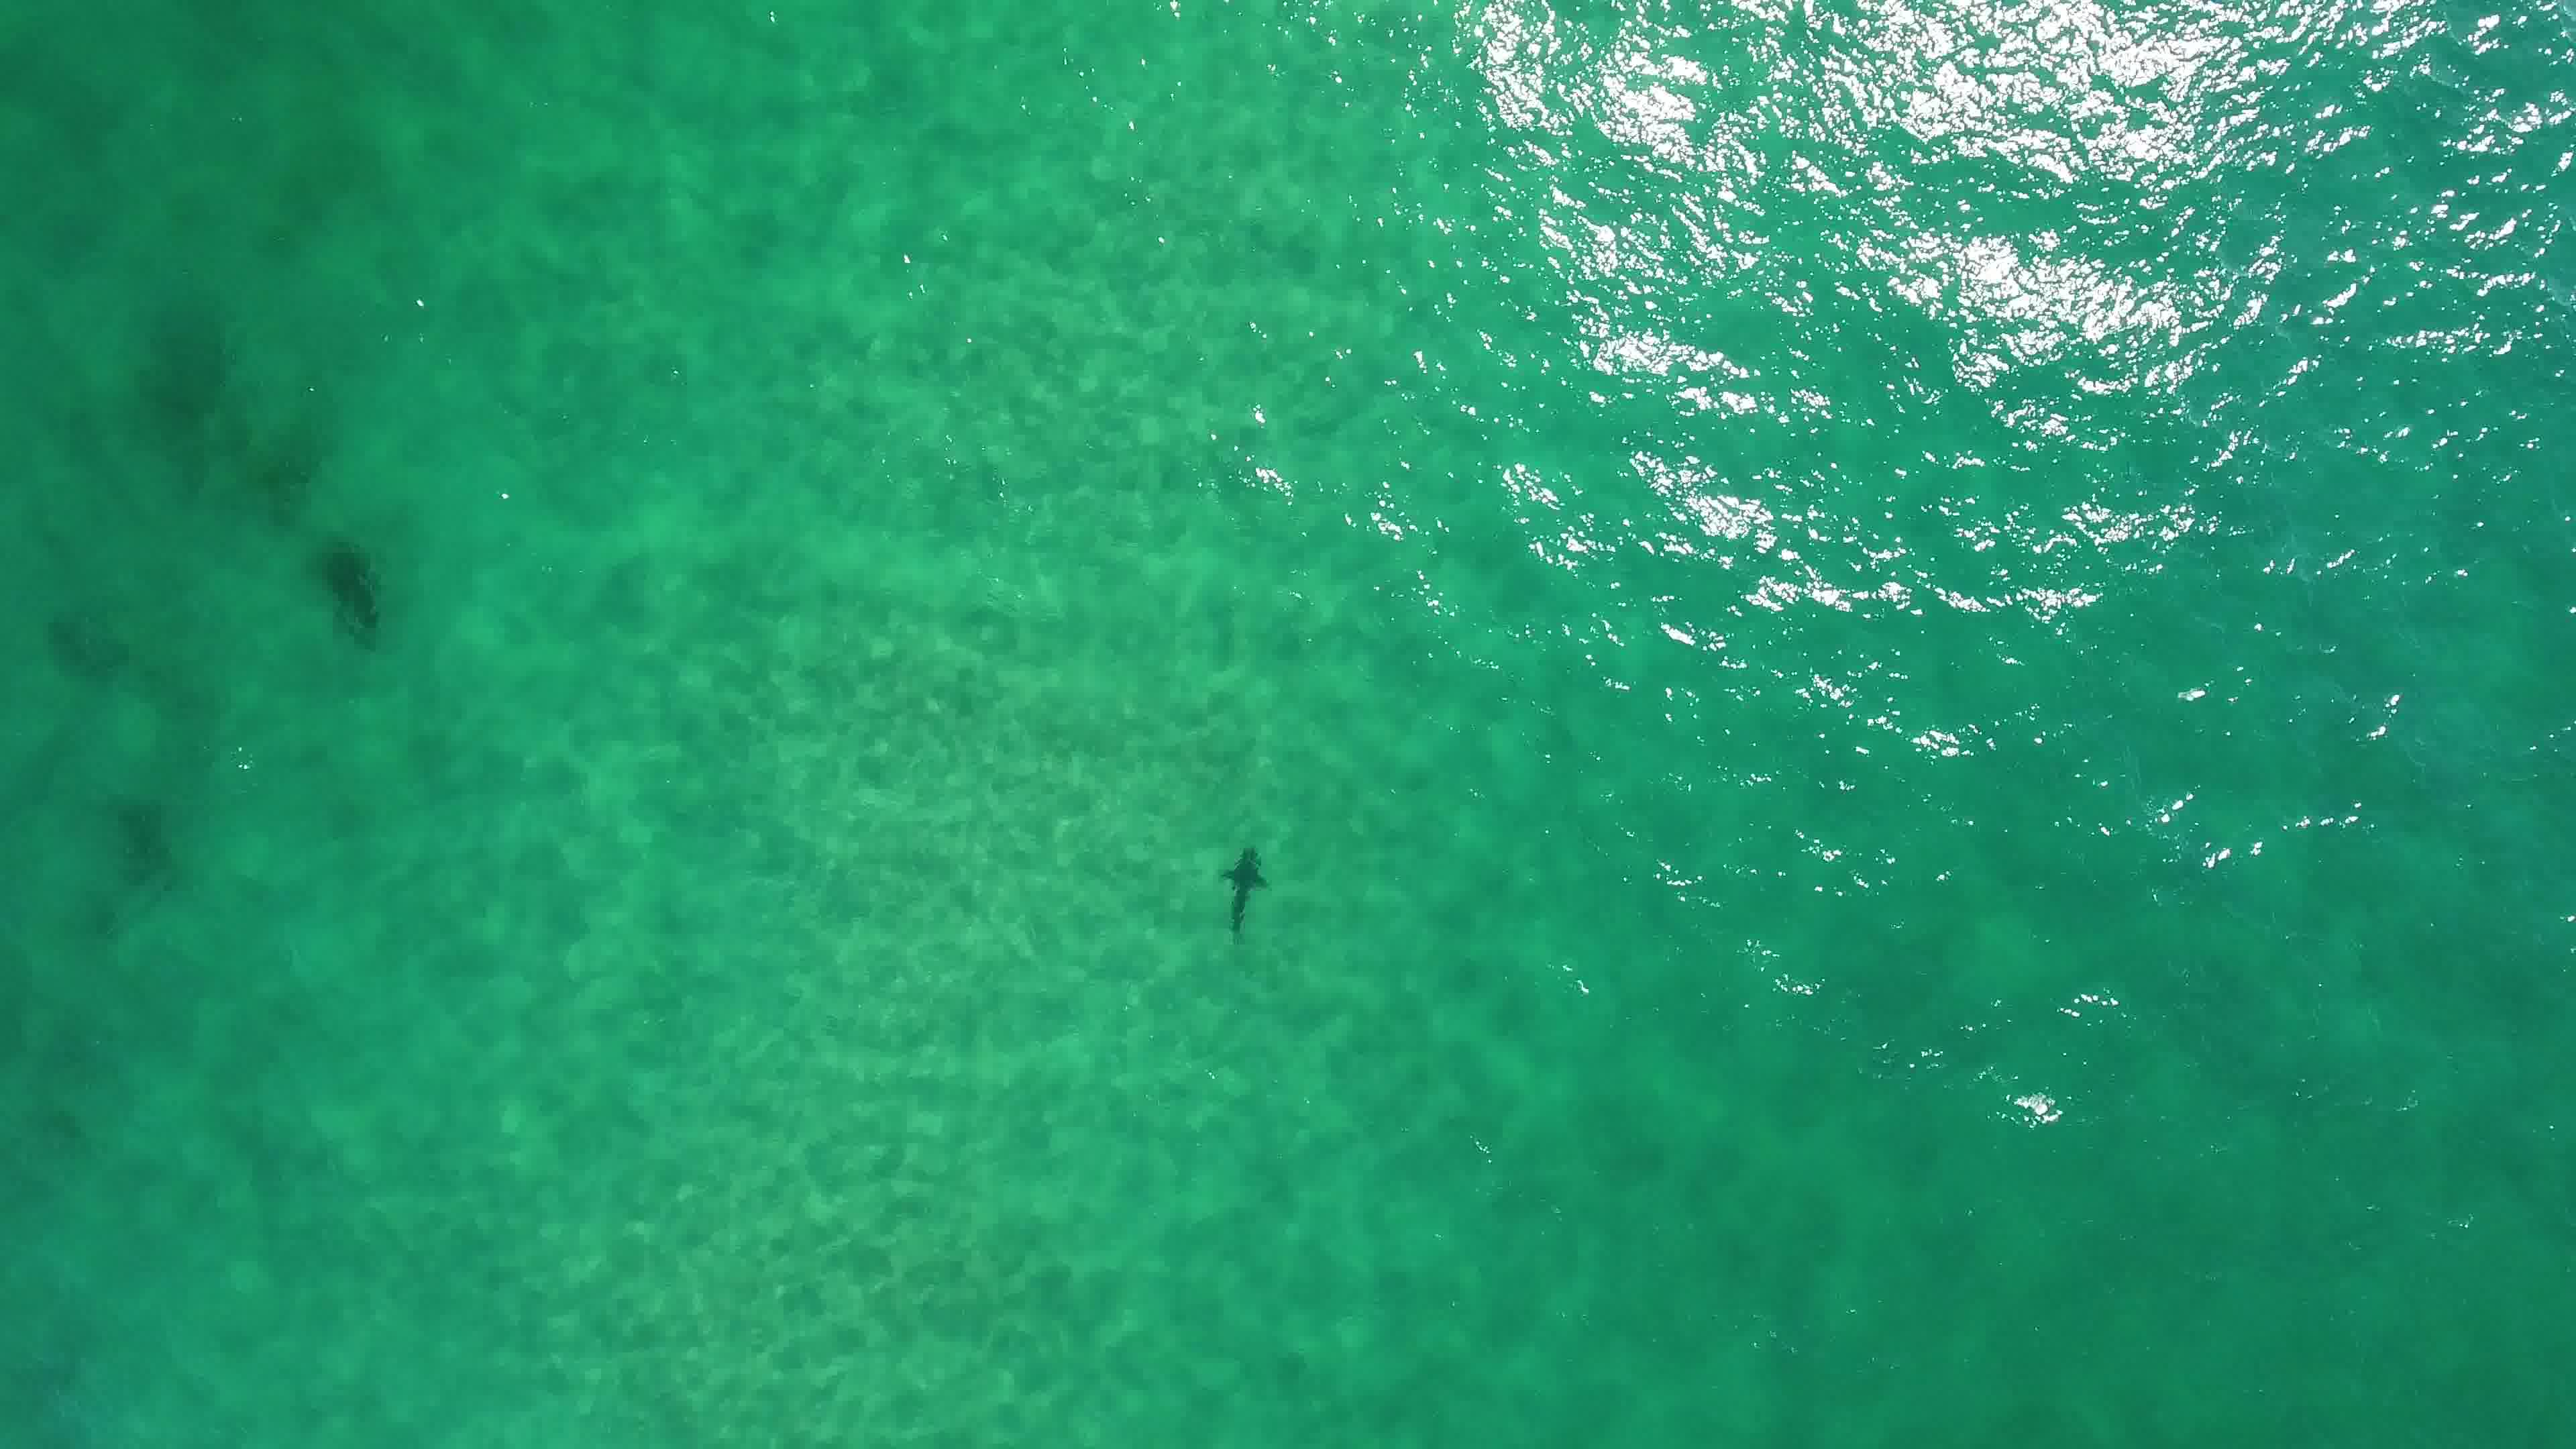shark: (1214, 840, 1279, 945)
